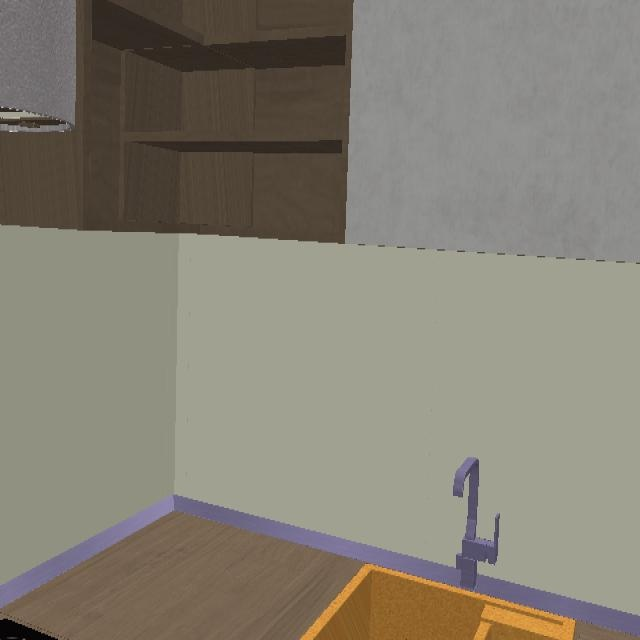countertop: (0, 497, 366, 640)
sink: (302, 565, 640, 640)
